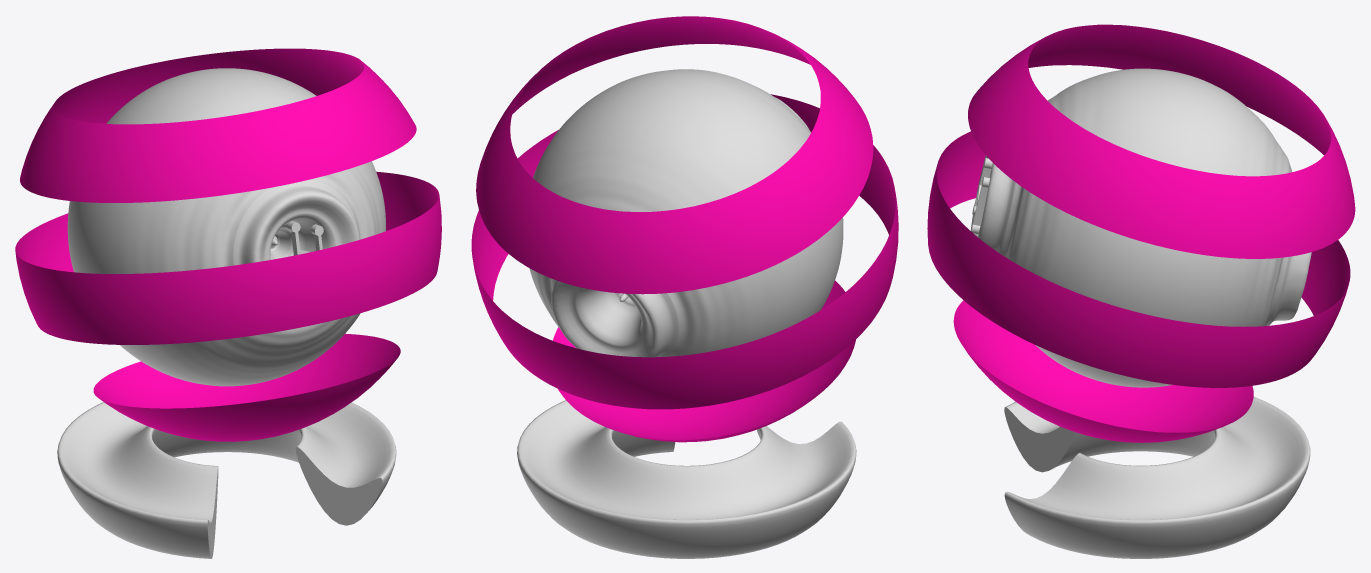
File: hifi_opacityA_albedoV.fbx
3 renders of one model, left to right at view 1: azimuth 30°, elevation 25°; view 2: azimuth 150°, elevation 25°; view 3: azimuth 270°, elevation 25°, orthographic.
Visible parts, largest first — view 1: Icosphere.001; view 2: Icosphere.001; view 3: Icosphere.001.
Part boxes in pixels (x1=…): Icosphere.001: x1=15, y1=48, x2=441, y2=558; Icosphere.001: x1=471, y1=16, x2=898, y2=558; Icosphere.001: x1=927, y1=24, x2=1355, y2=558.
Size of the model in its own units: 83.99 by 102 by 83.99.
